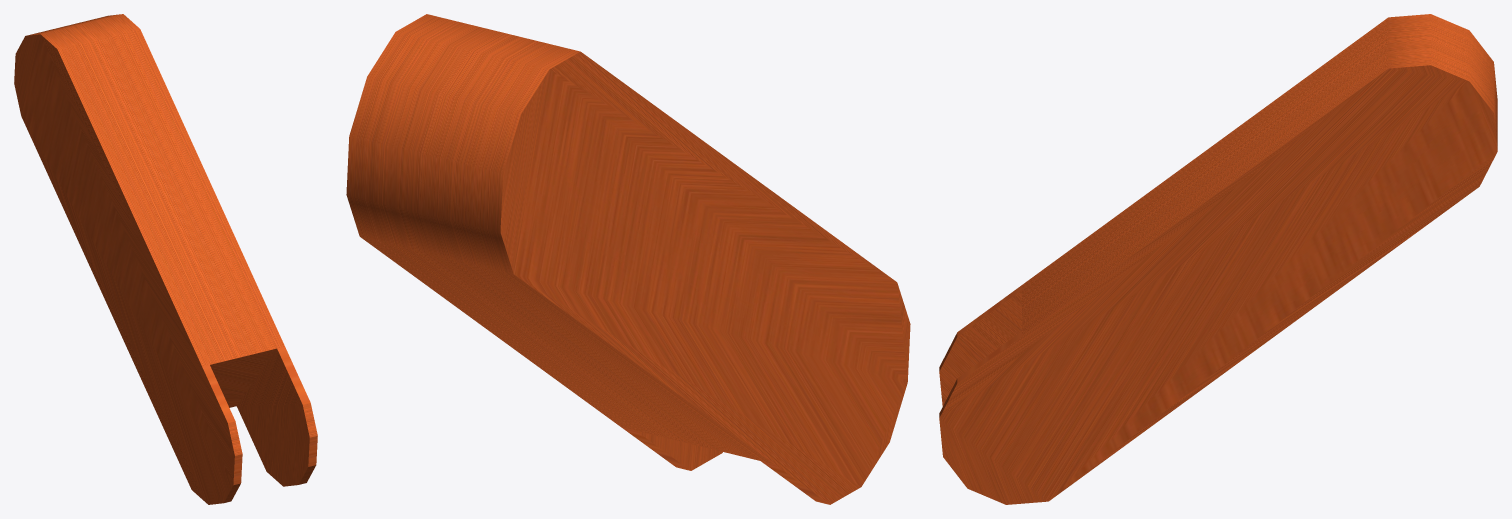
The model's file is ra_mediumArm.obj.
3 renders of one model, left to right at view 1: azimuth 30°, elevation 25°; view 2: azimuth 150°, elevation 25°; view 3: azimuth 270°, elevation 25°, orthographic. The views are drawn at different scales.
Visible parts, largest first — view 1: mediumArm; view 2: mediumArm; view 3: mediumArm.
Boxes of the visible parts, left/top/right/bottom form: mediumArm: left=14, top=14, right=317, bottom=504; mediumArm: left=346, top=14, right=910, bottom=504; mediumArm: left=939, top=14, right=1497, bottom=504.
Bounding box in the file's own units: 11.68 × 46.8 × 53.85.
Materials: 1 (1 with a texture image).
